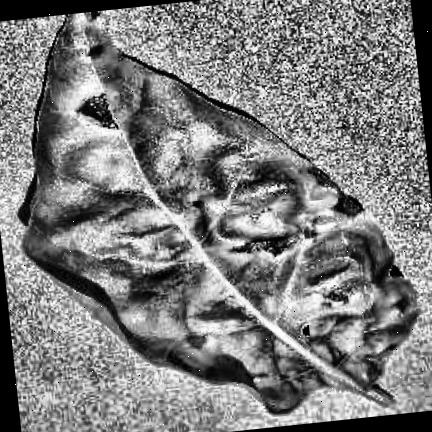leaf: (24, 12, 418, 413)
